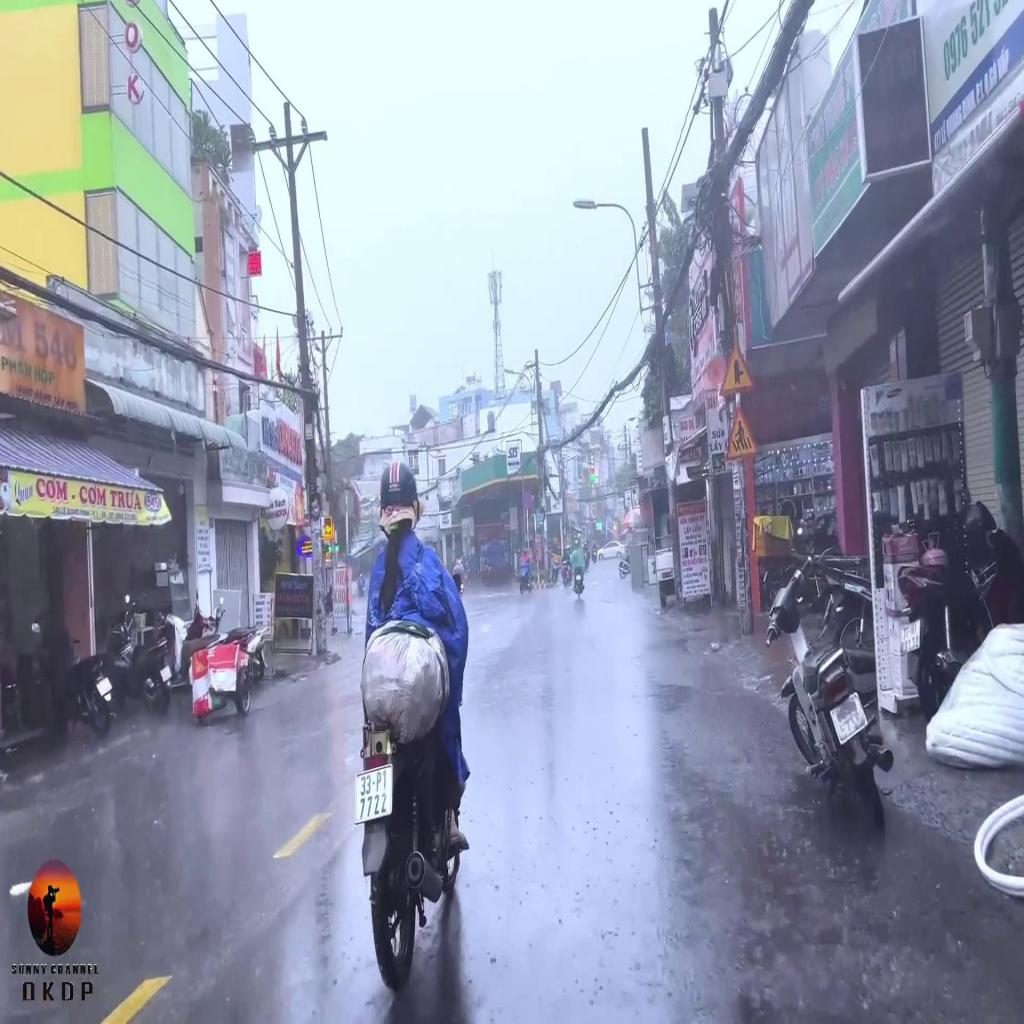chu_y_nguoi_di_bo_cat_ngang: (726, 404, 758, 458)
giao_nhau_voi_duong_khong_uu_tien: (718, 342, 755, 396)
